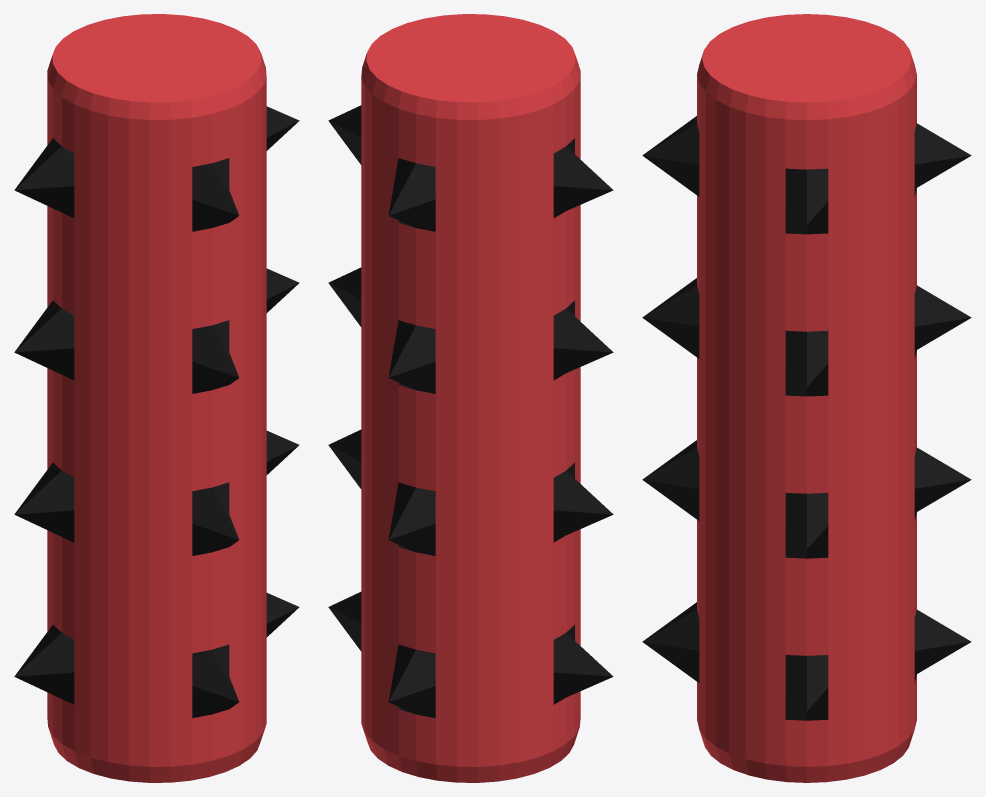
File: damage_2.fbx
The picture shows the model from 3 angles, left to right: view 1: azimuth 30°, elevation 25°; view 2: azimuth 150°, elevation 25°; view 3: azimuth 270°, elevation 25°; orthographic projection.
Parts seen in each view (by area): view 1: Цилиндр; view 2: Цилиндр; view 3: Цилиндр.
Part boxes in pixels (x1=…): Цилиндр: x1=14, y1=14, x2=299, y2=782; Цилиндр: x1=328, y1=14, x2=613, y2=782; Цилиндр: x1=642, y1=14, x2=971, y2=782.
Size of the model in its own units: 180 by 410 by 180.
